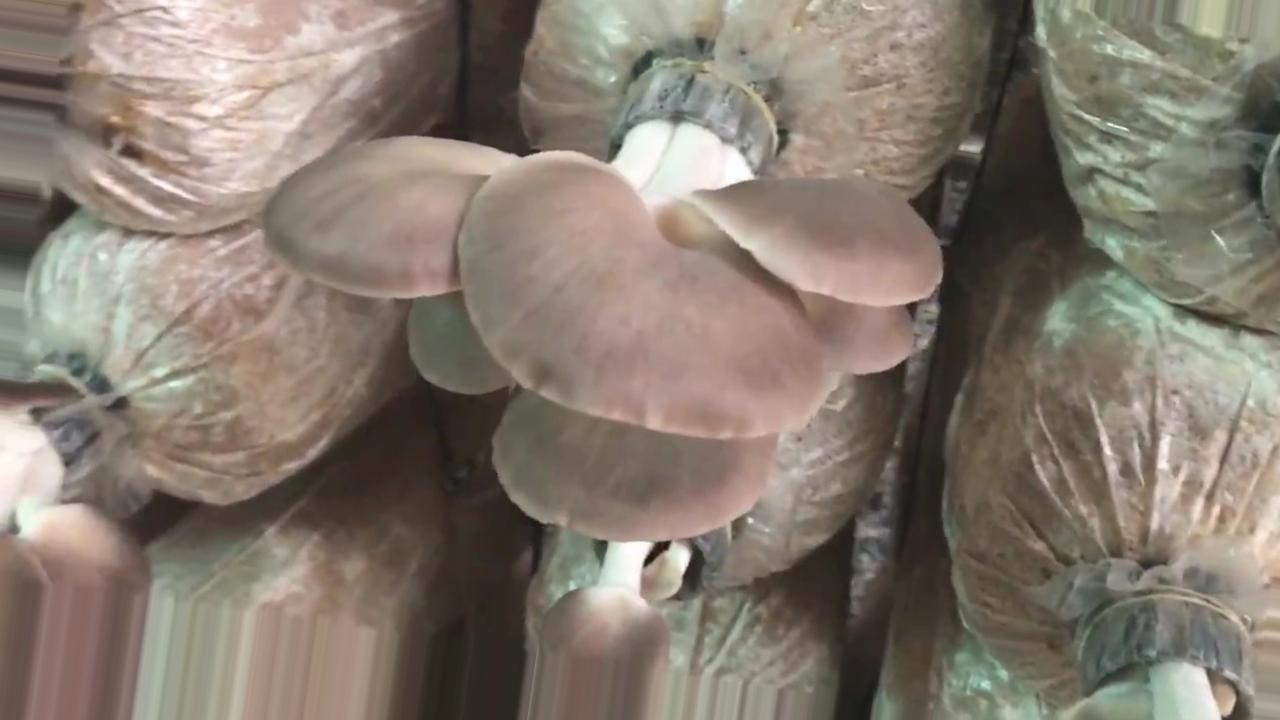nam: (267, 62, 942, 540), (1, 368, 148, 719), (540, 526, 733, 720), (1065, 602, 1256, 720)
